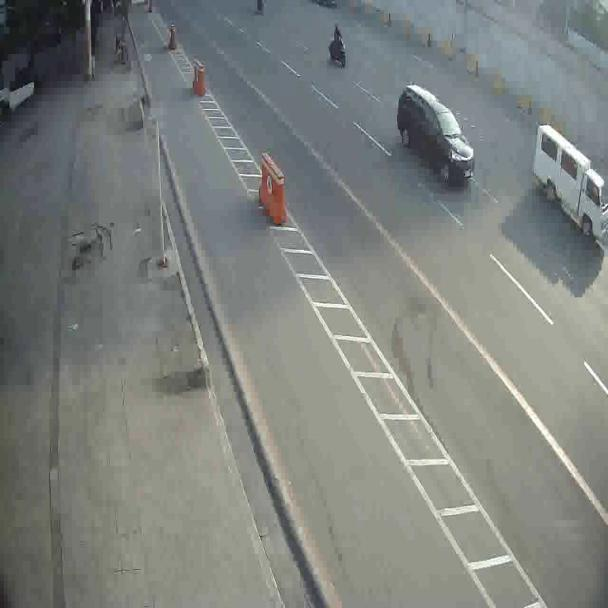motorcyclist: (326, 24, 348, 68)
vehicle: (534, 123, 606, 244), (396, 79, 474, 186)
